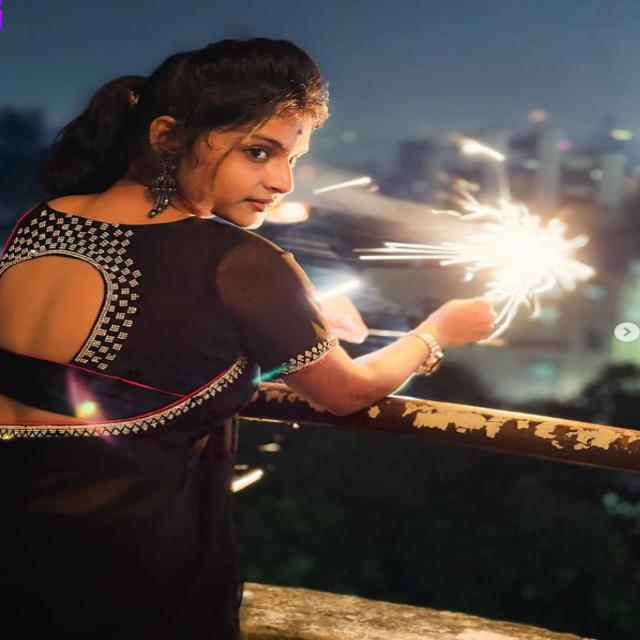fire: (441, 199, 597, 302)
